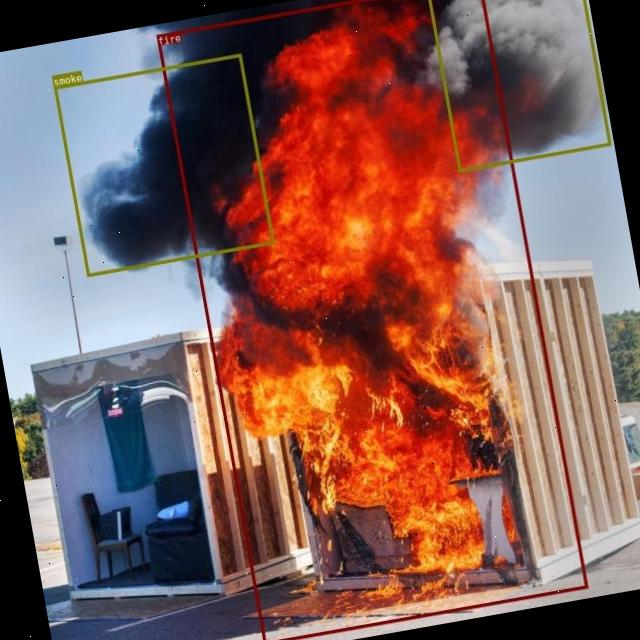fire: (155, 0, 586, 640)
smoke: (53, 53, 274, 276), (423, 0, 611, 171)
